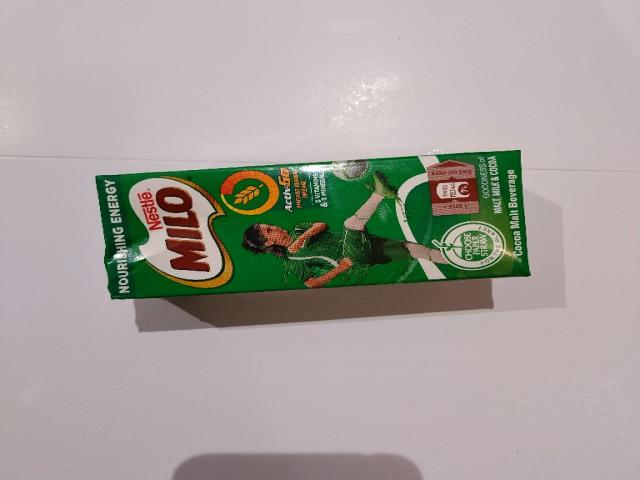drink_box: (92, 149, 531, 299)
